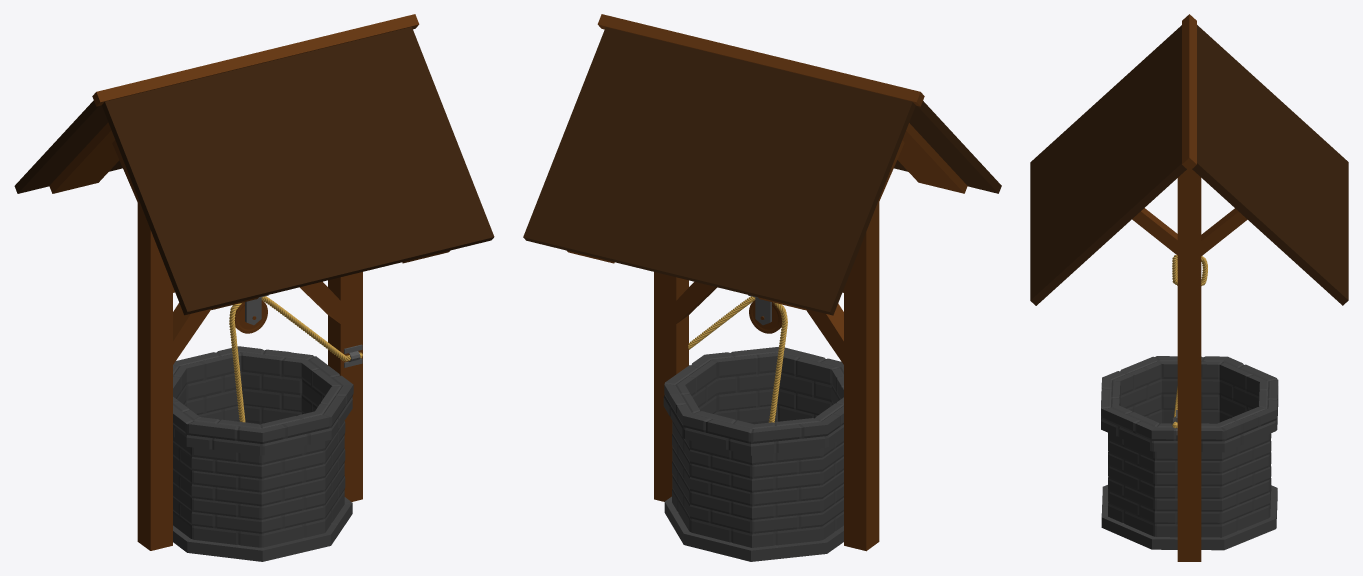
The model's file is Well1.fbx.
3 views of the same model, side by side, from view 1: azimuth 30°, elevation 25°; view 2: azimuth 150°, elevation 25°; view 3: azimuth 270°, elevation 25° (orthographic). The views are drawn at different scales.
Visible parts, largest first — view 1: Cube.006, Cylinder, Cube.001, Cube, Cube.010, Cube.009, Cube.013, Rope, Cube.003, Cube.004; view 2: Cube.009, Cylinder, Cube.001, Cube, Cube.010, Cube.006, Cube.014, Rope, Cube.003, Cube.004; view 3: Cylinder, Cube.006, Cube.009, Cube, Cube.010, Cube.017, Cube.018.
Part boxes in pixels (x1,y1,x2,y2): Cube.006: (101,27,494,315); Cylinder: (173,346,353,561); Cube.001: (137,197,172,550); Cube: (328,272,362,501); Cube.010: (92,14,419,106); Cube.009: (14,100,122,193); Cube.013: (49,122,119,193); Rope: (229,296,362,422); Cube.003: (173,303,210,364); Cube.004: (300,281,340,323); Cube.009: (523,27,915,315); Cylinder: (663,347,843,561); Cube.001: (844,199,879,551); Cube: (654,272,688,501); Cube.010: (597,14,924,106); Cube.006: (894,101,1001,193); Cube.014: (897,123,967,193); Rope: (688,296,787,422); Cube.003: (806,303,843,364); Cube.004: (676,281,717,323); Cylinder: (1101,356,1278,550); Cube.006: (1030,25,1186,305); Cube.009: (1192,25,1348,305); Cube: (1177,169,1201,561); Cube.010: (1182,14,1196,171); Cube.017: (1201,208,1247,255); Cube.018: (1132,208,1177,255).
Size of the model in its own units: 270 by 378 by 253.
